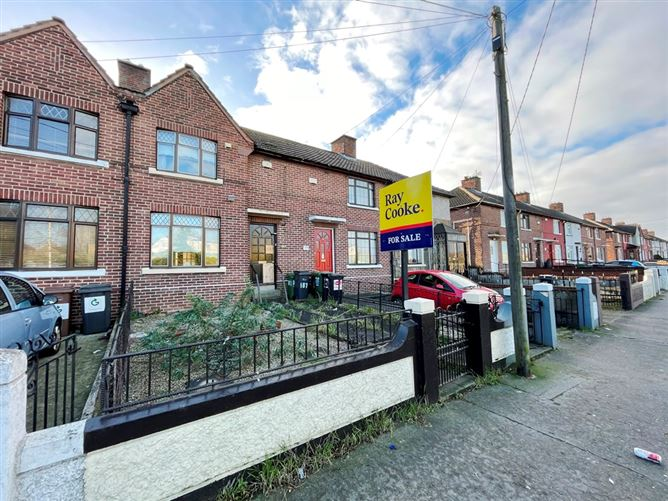property sign: (366, 165, 448, 253)
